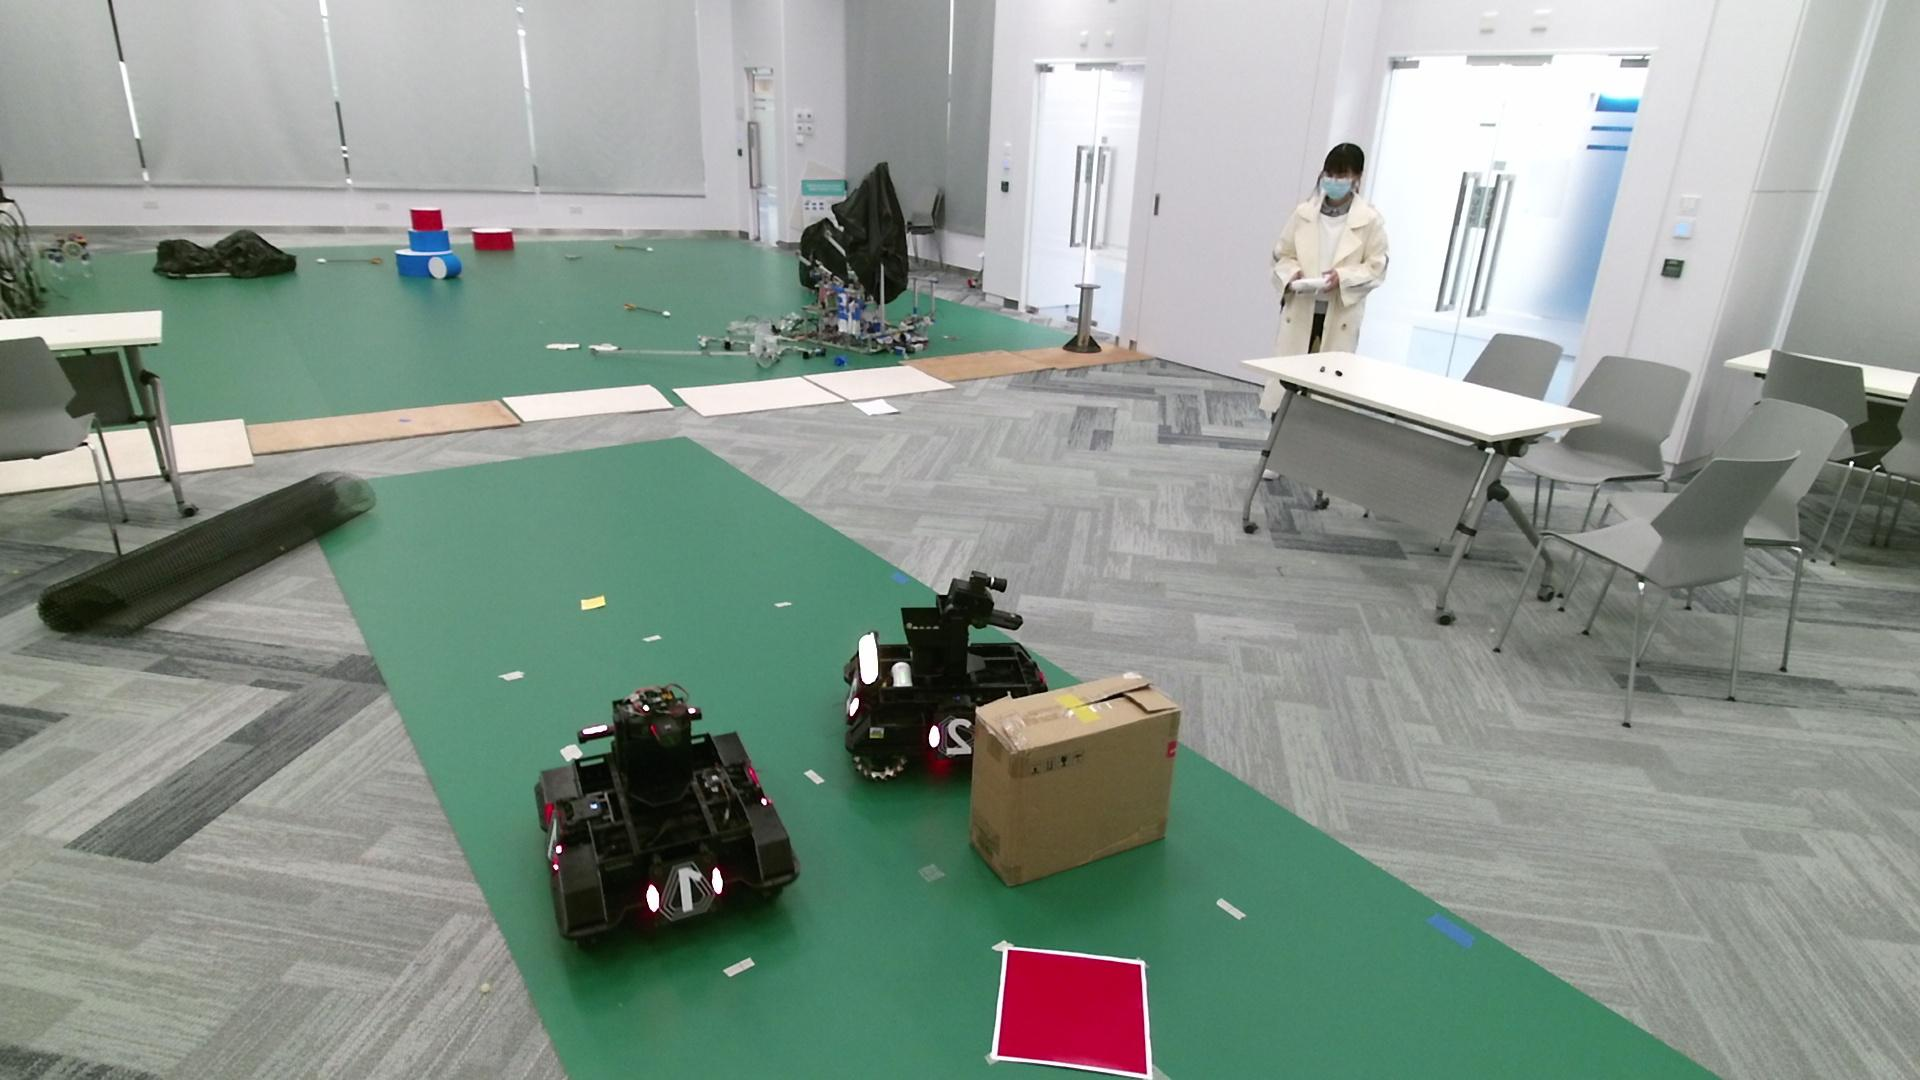robot: (535, 680, 800, 952), (843, 568, 1050, 785)
